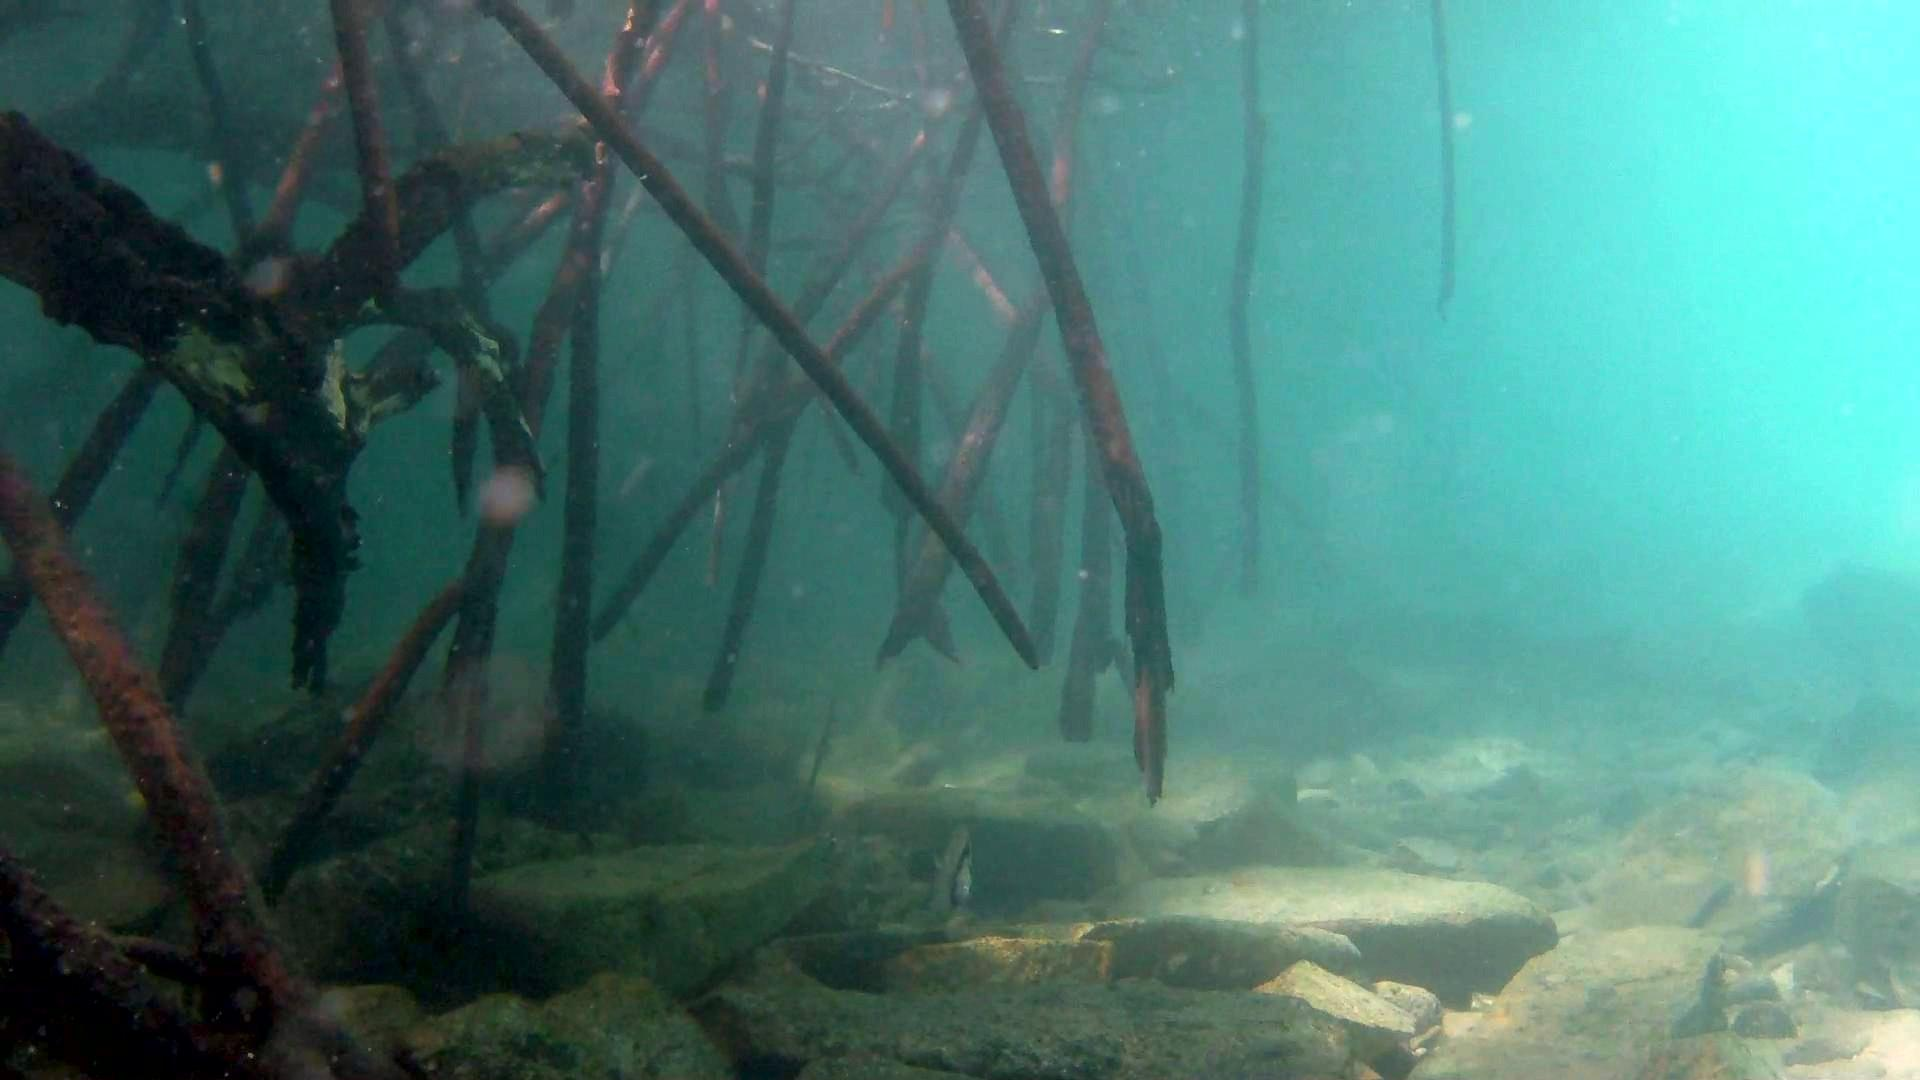chaetodon vagabundus: (923, 815, 977, 929)
